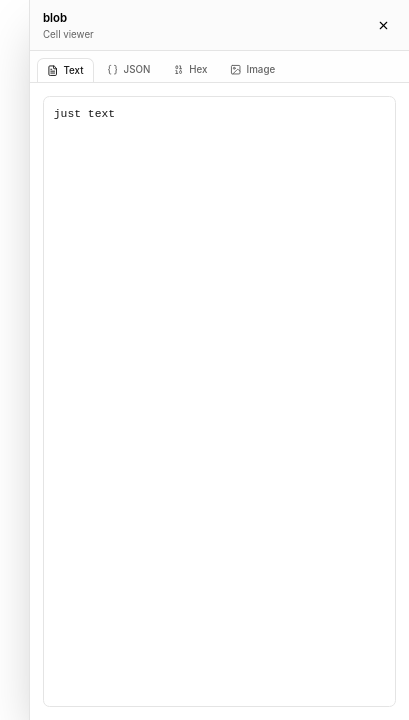
Test case: CellViewerPanel › Image tab shows the not-an-image notice for non-image data
What coordinates should you click on to do the following:
click the button "Image"
I would click on:
 (253, 70)
Its box is [220,58,285,81].
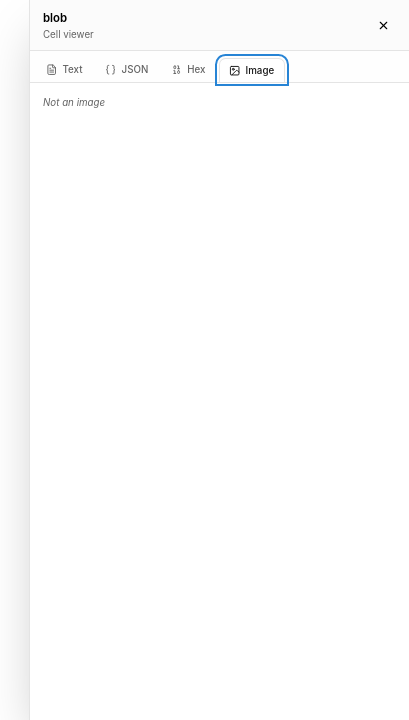
Now the text "Not an image" is shown, box [43,97,105,108]
